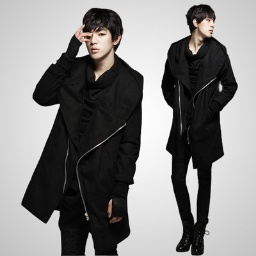face: (80, 7, 123, 60), (186, 5, 218, 40)
